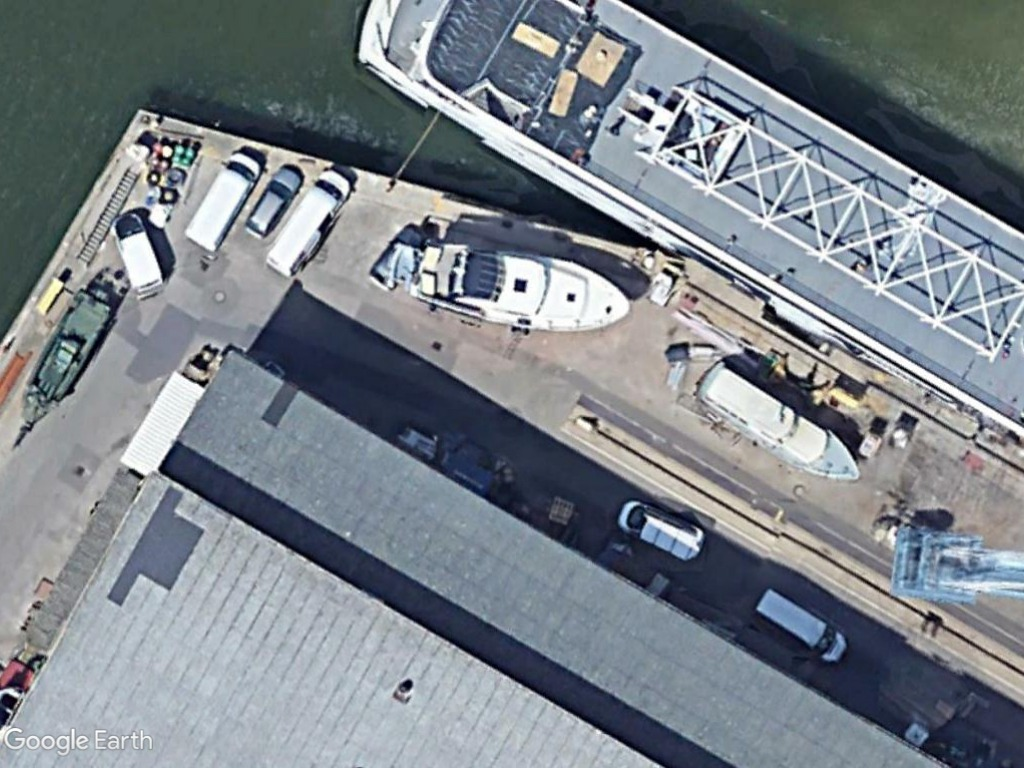boat: (412, 226, 633, 343), (694, 361, 866, 491)
car: (243, 160, 305, 239)
van: (261, 168, 354, 280), (180, 151, 265, 256), (750, 584, 852, 664), (616, 493, 712, 565)
